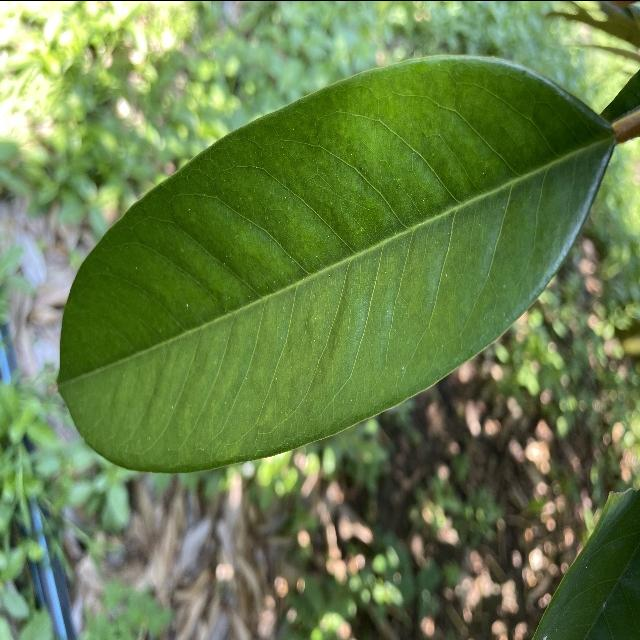No Disease: (49, 46, 629, 481)
